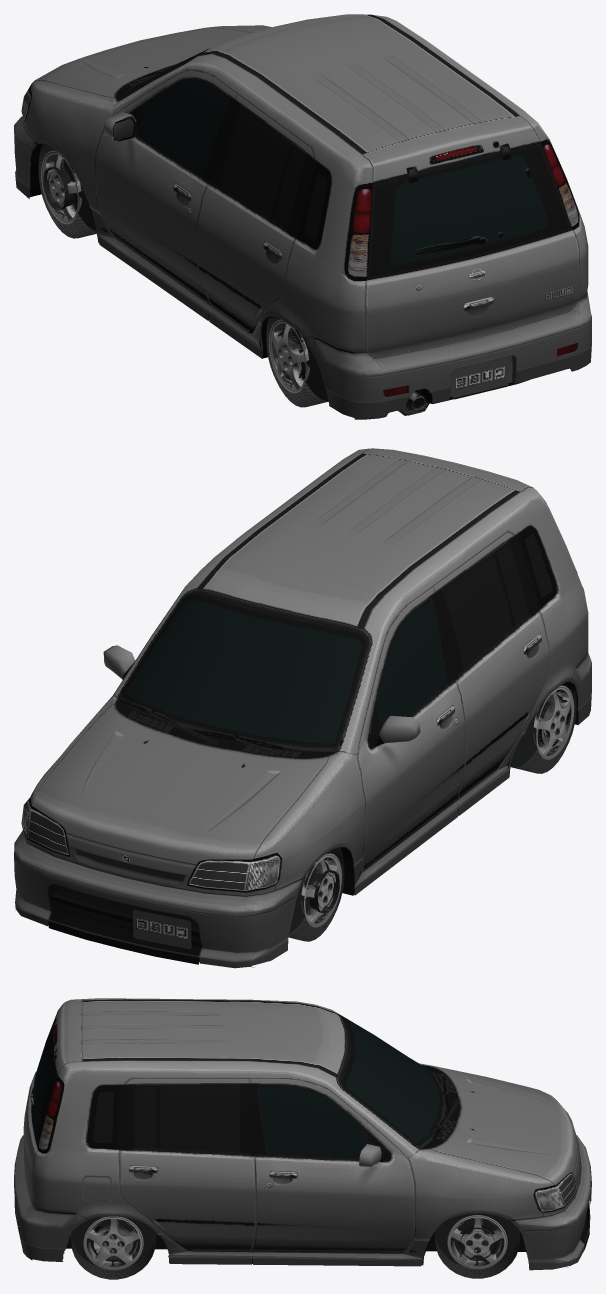
File: niss0034.glb
3 views of the same model, one above another, from view 1: azimuth 30°, elevation 25°; view 2: azimuth 150°, elevation 25°; view 3: azimuth 270°, elevation 25° (orthographic). The views are drawn at different scales.
Visible parts, largest first — view 1: body, wheel_front_right, tire_front_right, tire_rear_right, wheel_rear_right; view 2: body, wheel_front_right, tire_front_right, wheel_rear_right, tire_rear_right; view 3: body, tire_rear_left, tire_front_left, wheel_front_left, wheel_rear_left.
Part boxes in pixels (x1=…): body: x1=14, y1=14, x2=591, y2=419; wheel_front_right: x1=268, y1=319, x2=309, y2=393; tire_front_right: x1=266, y1=317, x2=343, y2=407; tire_rear_right: x1=38, y1=144, x2=96, y2=238; wheel_rear_right: x1=40, y1=150, x2=81, y2=224; body: x1=14, y1=448, x2=591, y2=968; wheel_front_right: x1=533, y1=685, x2=574, y2=760; tire_front_right: x1=510, y1=689, x2=576, y2=773; wheel_rear_right: x1=301, y1=853, x2=342, y2=927; tire_rear_right: x1=288, y1=847, x2=344, y2=941; body: x1=14, y1=998, x2=591, y2=1270; tire_rear_left: x1=435, y1=1213, x2=519, y2=1278; tire_front_left: x1=71, y1=1213, x2=155, y2=1279; wheel_front_left: x1=83, y1=1216, x2=143, y2=1270; wheel_rear_left: x1=447, y1=1215, x2=507, y2=1269.
Bounding box in the file's own units: 1.85 × 1.45 × 3.75.
56 materials, 56 textured.
